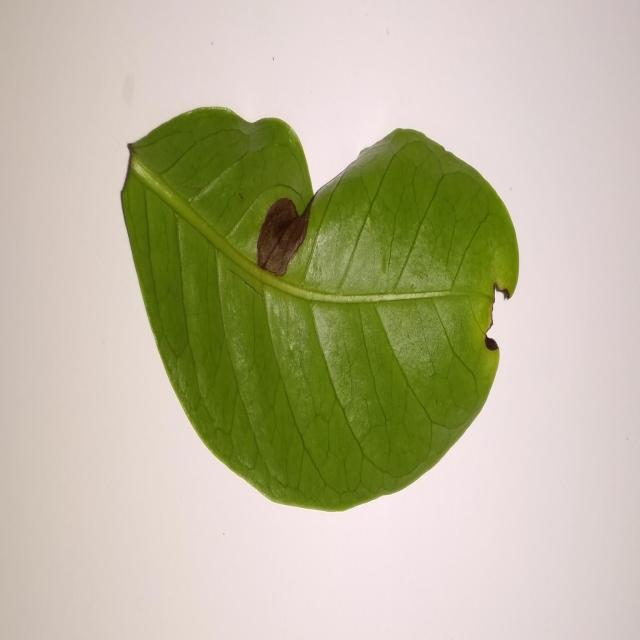phoma: (257, 194, 314, 275)
